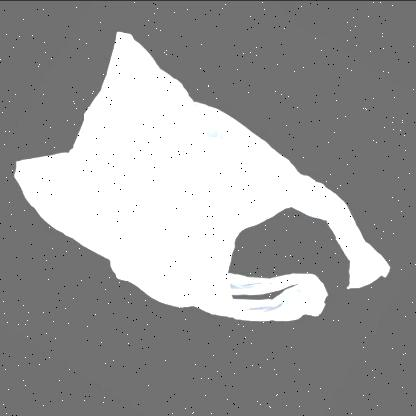Others: (13, 30, 390, 320)
